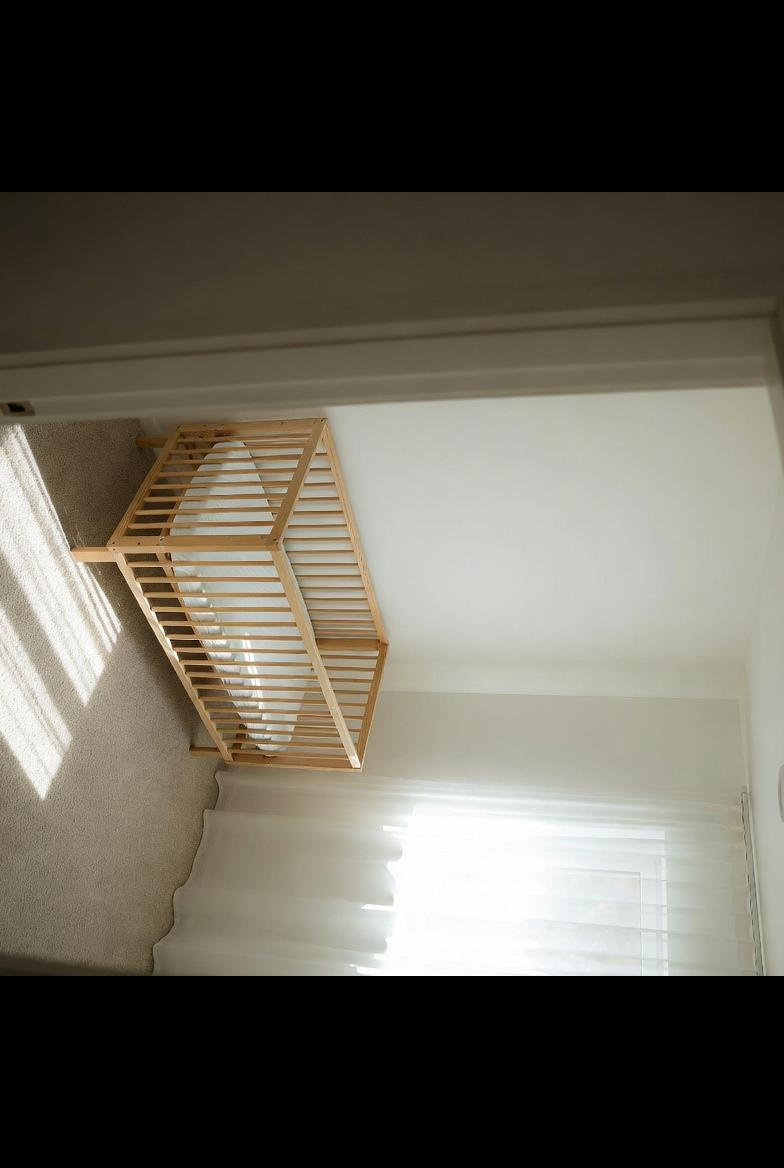crib: (71, 419, 387, 771)
